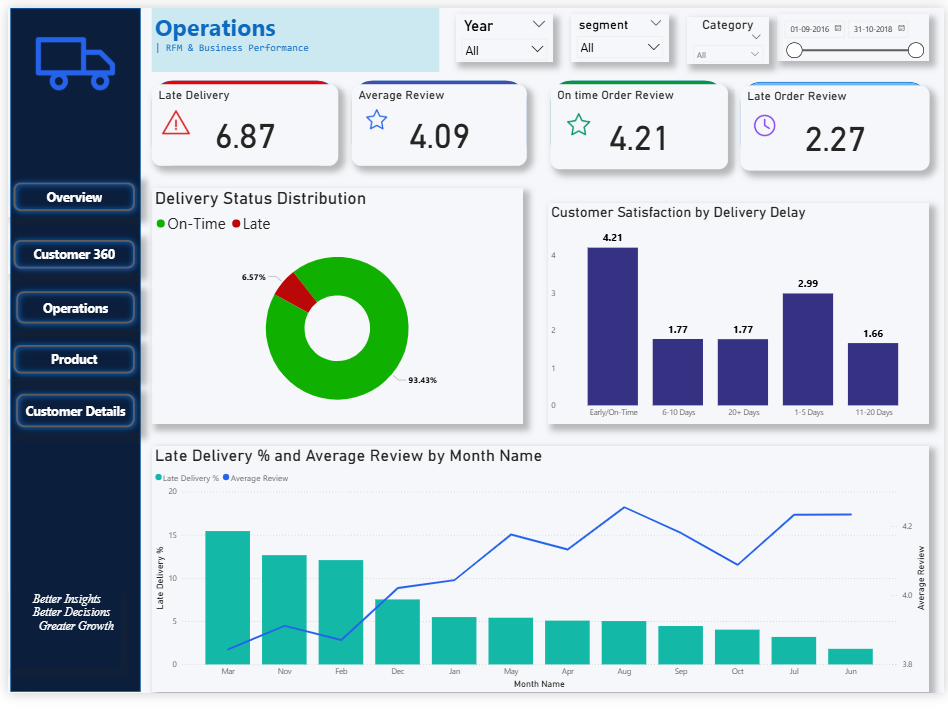

The page's visual inventory and layout, read from the dashboard file:
{"tool":"powerbi","page":{"name":"Customer Experience & Operations","canvas":[1498,1096],"ordinal":2},"visuals":[{"type":"donutChart","title":"Delivery Status Distribution","fields":{"Y":["transactions_cleaned.Total Orders"],"Category":["transactions_cleaned.Delivery Status"]},"box":[230,288,594,378],"z":0},{"type":"clusteredColumnChart","title":"Customer Satisfaction by Delivery Delay","fields":{"Category":["transactions_cleaned.Delay Bucket"],"Y":["Avg(transactions_cleaned.review_score)"]},"box":[864,312,610,354],"z":1000},{"type":"shape","box":[230,116,298,136],"z":2000},{"type":"textbox","box":[230,0,460,102],"z":3000},{"type":"card","title":"Late Delivery","fields":{"Values":["transactions_cleaned.Late Delivery %"]},"box":[230,122,298,130],"z":4000},{"type":"shape","box":[4,0,208,1094],"z":5000},{"type":"lineStackedColumnComboChart","fields":{"Category":["Date_Table.Month Name"],"Y":["transactions_cleaned.Late Delivery %"],"Y2":["transactions_cleaned.Average Review"]},"box":[230,700,1244,394],"z":7000},{"type":"image","box":[16,0,196,168],"z":8000},{"type":"shape","box":[550,116,280,134],"z":9000},{"type":"card","title":"Average Review","fields":{"Values":["transactions_cleaned.Average Review"]},"box":[550,122,280,130],"z":10000},{"type":"shape","box":[868.5,115.4,280,135],"z":11000},{"type":"card","title":"On time Order Review","fields":{"Values":["transactions_cleaned.On-Time Order Review"]},"box":[868,122,284,136],"z":12000},{"type":"shape","box":[1172,118,302,134],"z":13000},{"type":"card","title":"Late Order Review","fields":{"Values":["transactions_cleaned.Late Order Review"]},"box":[1172,124,302,136],"z":14000},{"type":"slicer","fields":{"Values":["Date_Table.Year"]},"box":[716,10,156,76],"z":15000},{"type":"slicer","fields":{"Values":["customer_360_master.segment"]},"box":[900,10,158,76],"z":16000},{"type":"slicer","title":"Category","fields":{"Values":["transactions_cleaned.Product_category_name_english"]},"box":[1086,14,132,76],"z":17000},{"type":"slicer","fields":{"Values":["Date_Table.Date"]},"box":[1230,10,244,74],"z":18000},{"type":"actionButton","box":[0,270,212,64],"z":19000},{"type":"actionButton","box":[0,362,212,64],"z":20000},{"type":"actionButton","box":[4,444,208,70],"z":21000},{"type":"actionButton","box":[0,530,212,64],"z":22000},{"type":"actionButton","box":[4,608,208,72],"z":23000},{"type":"textbox","box":[2,930,178,128],"z":24000},{"type":"image","box":[1172,162,78,52],"z":25000},{"type":"image","box":[872,160,82,54],"z":26000},{"type":"image","box":[230,154,78,60],"z":27000},{"type":"image","box":[550,154,80,50],"z":28000}]}

Visuals, with their boxes on the page's 1498x1096 design canvas (x1, y1, x2, y2). These are canvas units, not pixel positions in the 948x722 screenshot, which may show the page scaled, cropped or inside an application window:
"Delivery Status Distribution" donutChart: 230:288:824:666
"Customer Satisfaction by Delivery Delay" clusteredColumnChart: 864:312:1474:666
shape: 230:116:528:252
textbox: 230:0:690:102
"Late Delivery" card: 230:122:528:252
shape: 4:0:212:1094
lineStackedColumnComboChart - Date_Table.Month Name x transactions_cleaned.Late Delivery %: 230:700:1474:1094
image: 16:0:212:168
shape: 550:116:830:250
"Average Review" card: 550:122:830:252
shape: 868:115:1148:250
"On time Order Review" card: 868:122:1152:258
shape: 1172:118:1474:252
"Late Order Review" card: 1172:124:1474:260
slicer - Date_Table.Year: 716:10:872:86
slicer - customer_360_master.segment: 900:10:1058:86
"Category" slicer: 1086:14:1218:90
slicer - Date_Table.Date: 1230:10:1474:84
actionButton: 0:270:212:334
actionButton: 0:362:212:426
actionButton: 4:444:212:514
actionButton: 0:530:212:594
actionButton: 4:608:212:680
textbox: 2:930:180:1058
image: 1172:162:1250:214
image: 872:160:954:214
image: 230:154:308:214
image: 550:154:630:204
